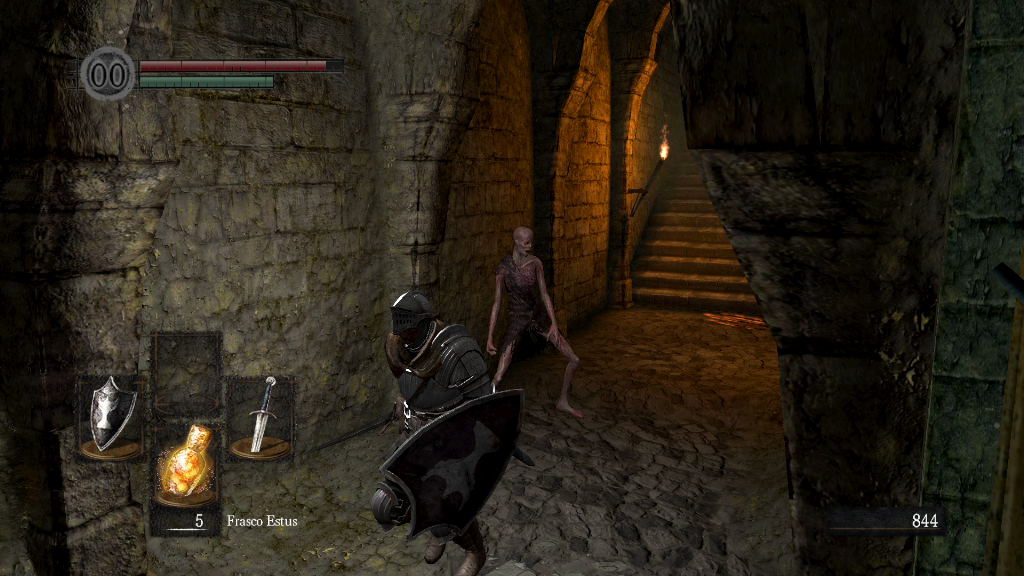health: (138, 58, 343, 71)
hollow: (485, 226, 586, 424)
humanity: (80, 45, 136, 102)
player: (371, 290, 537, 576)
souls: (825, 506, 945, 536)
stamina: (138, 74, 274, 88)
